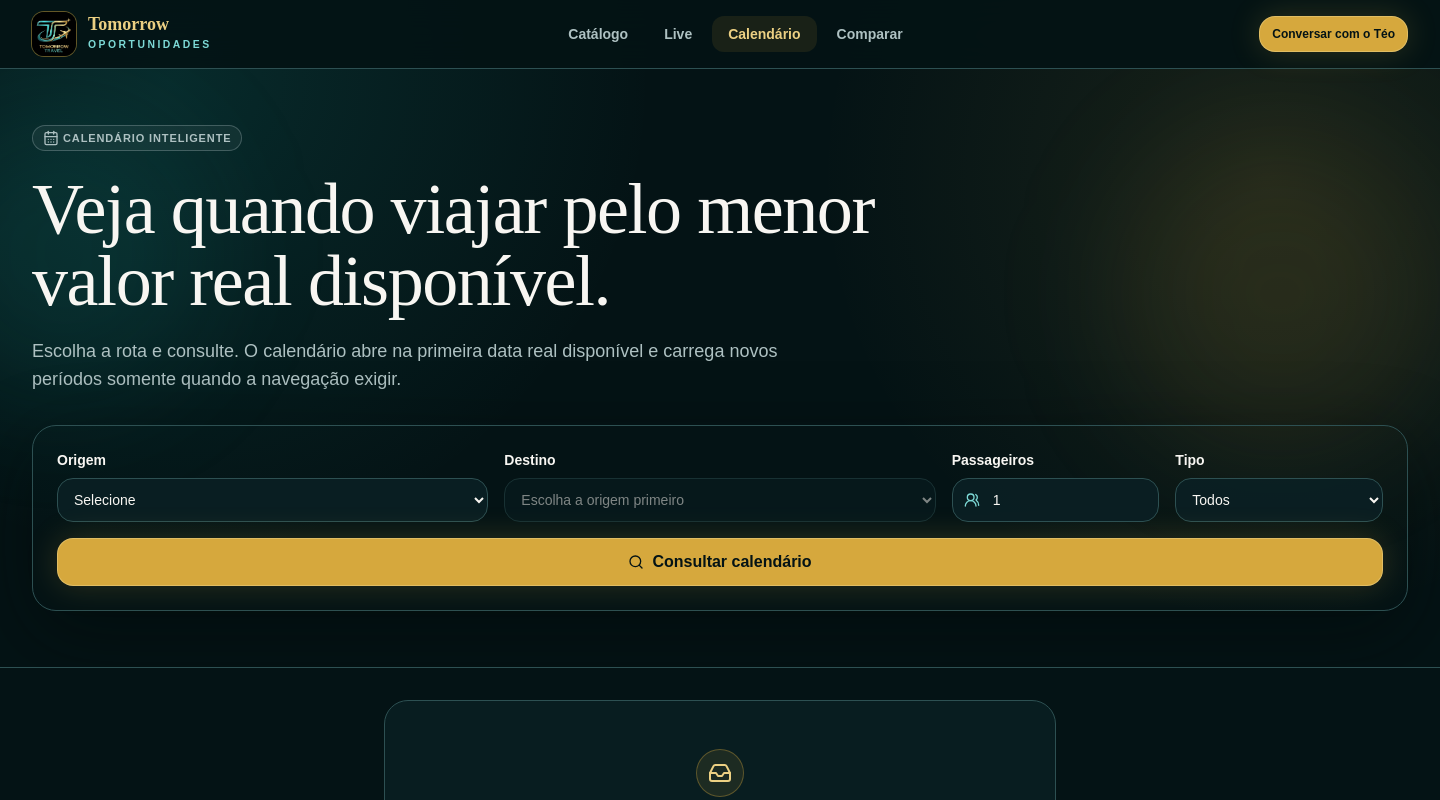
Test: Calendário de oportunidades › abre na primeira data real e carrega nova janela somente ao avançar além da cobertura
Later steps or results of the test are not shown.
Select "São Paulo" in the dropdown labelled "Origem" at [273, 500], box [57,478,488,522]
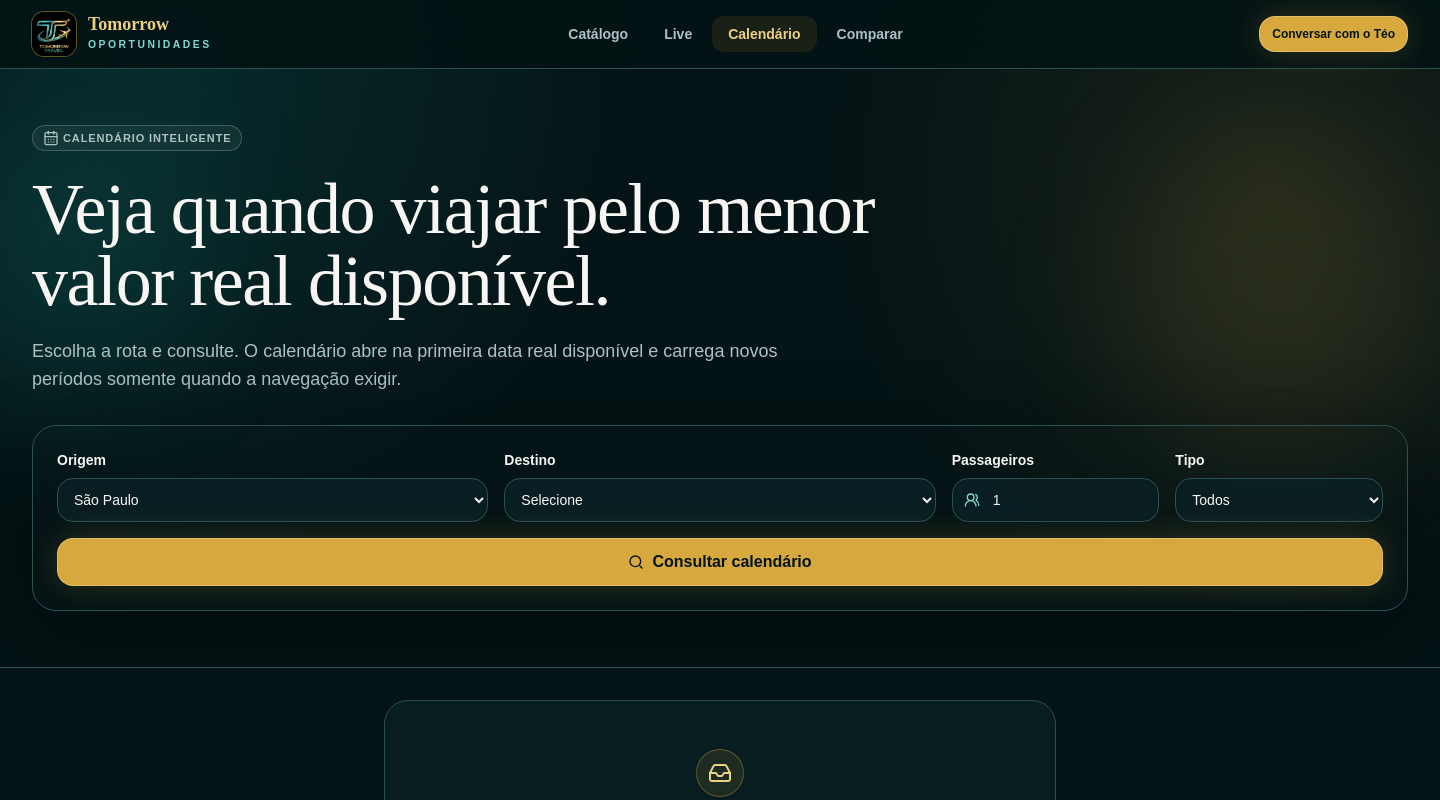
Select "Recife" in the dropdown labelled "Destino" at [720, 500], box [504,478,936,522]
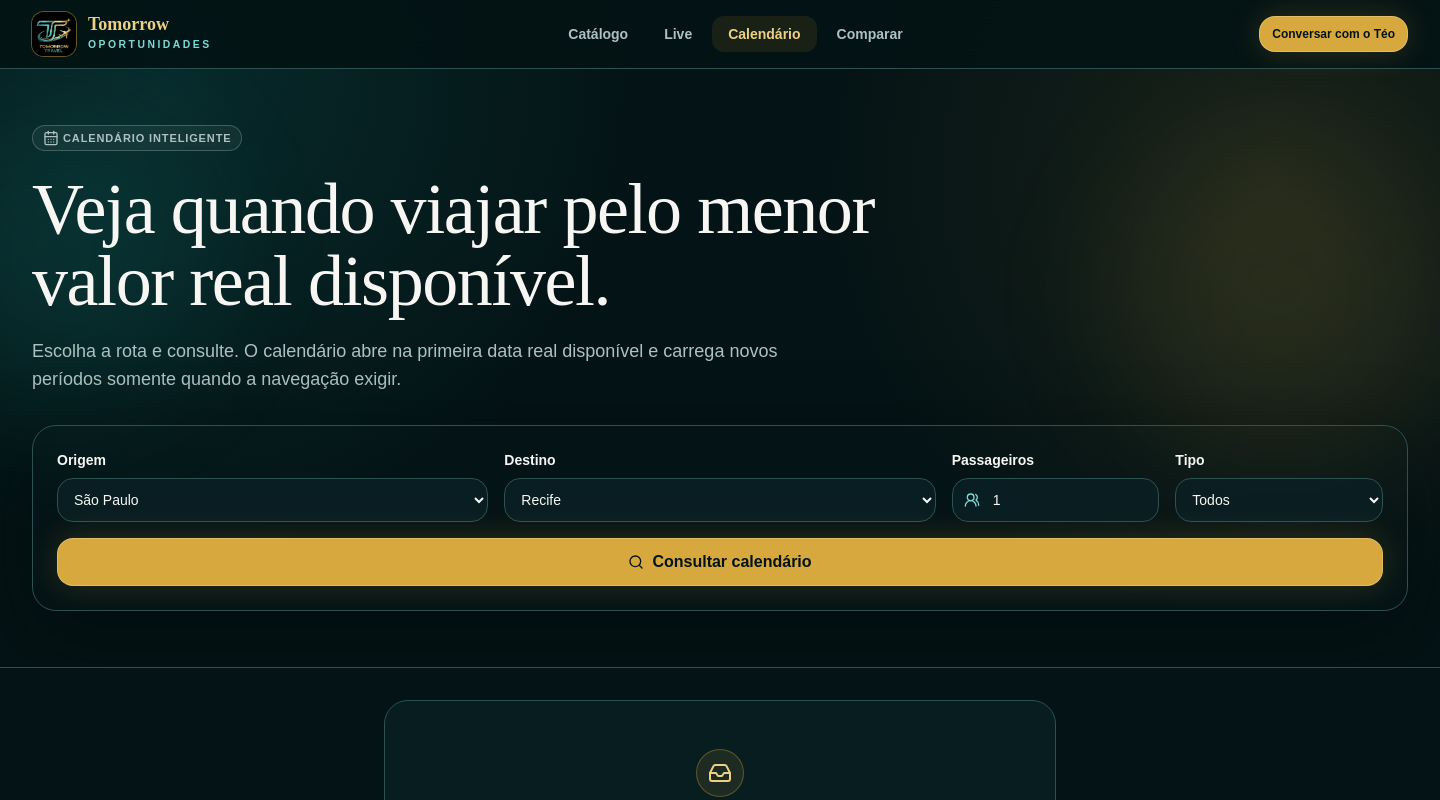
Click the button "Consultar calendário" at [720, 562], box [57,538,1383,586]
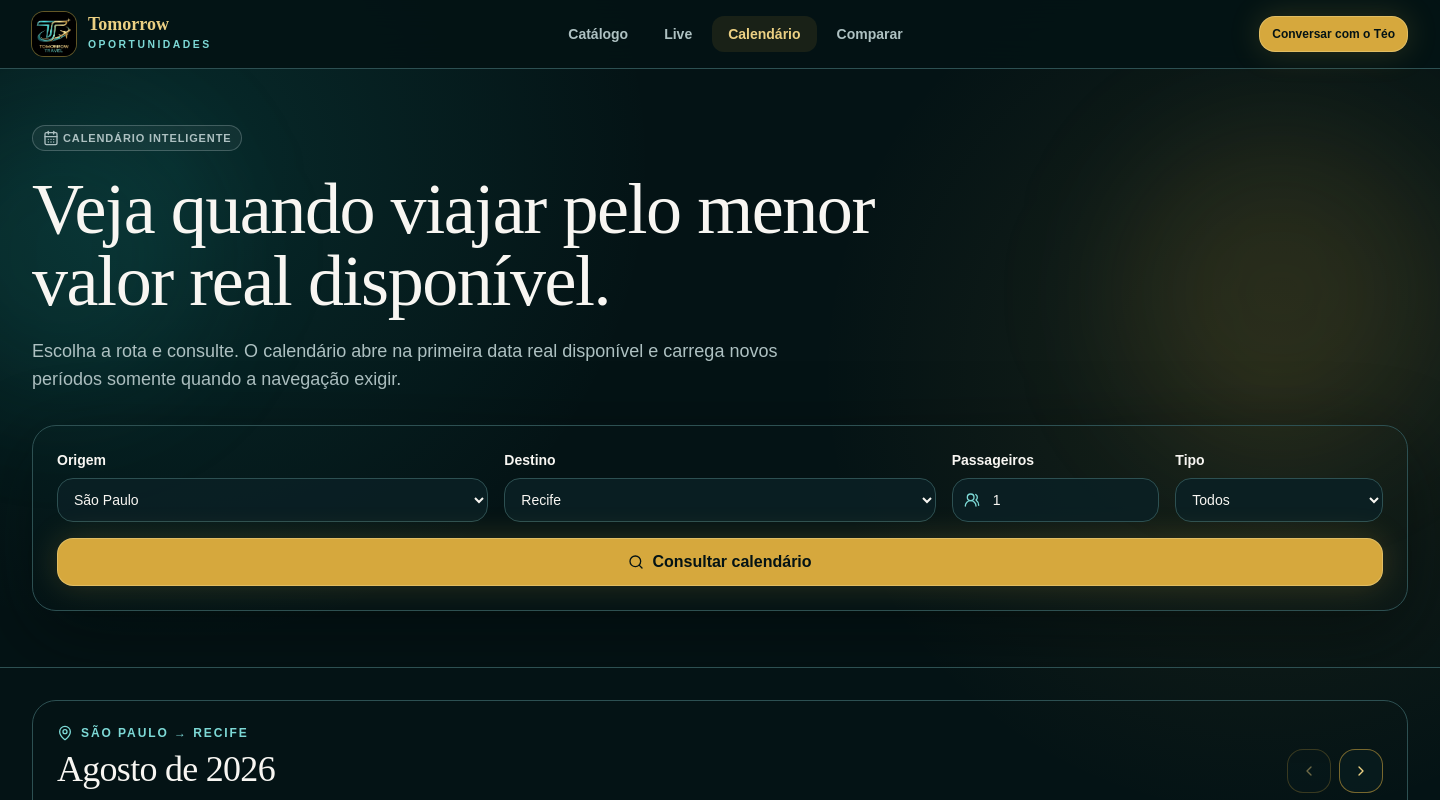
Now the heading "Agosto de 2026" is shown, box [57,749,275,789]
